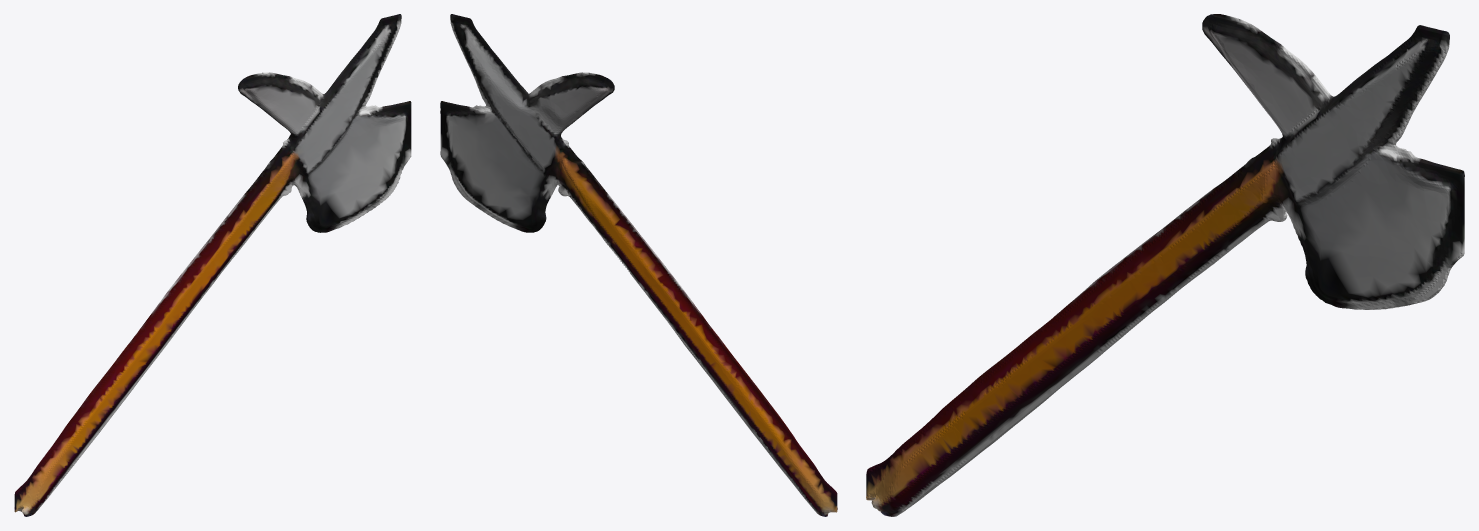
File: poleaxe.glb
The picture shows the model from 3 angles, left to right: view 1: azimuth 30°, elevation 25°; view 2: azimuth 150°, elevation 25°; view 3: azimuth 330°, elevation 25°; orthographic projection. The views are drawn at different scales.
Visible parts, largest first — view 1: geometry_0; view 2: geometry_0; view 3: geometry_0.
Boxes of the visible parts, x1=… form: geometry_0: x1=14, y1=14, x2=411, y2=516; geometry_0: x1=440, y1=14, x2=837, y2=516; geometry_0: x1=866, y1=14, x2=1464, y2=516.
Bounding box in the file's own units: 1 × 0.9918 × 0.0342.
